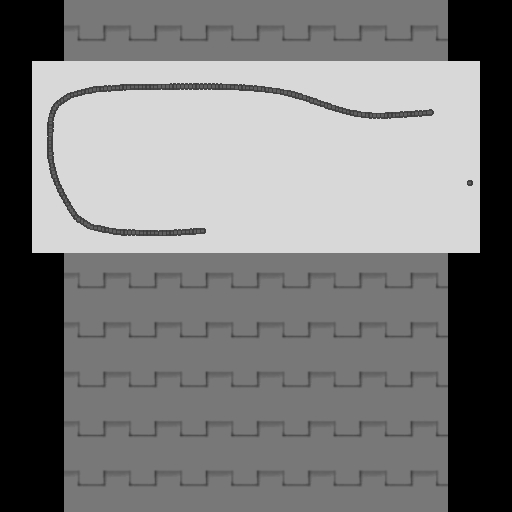Defect: (206, 182, 458, 236)
